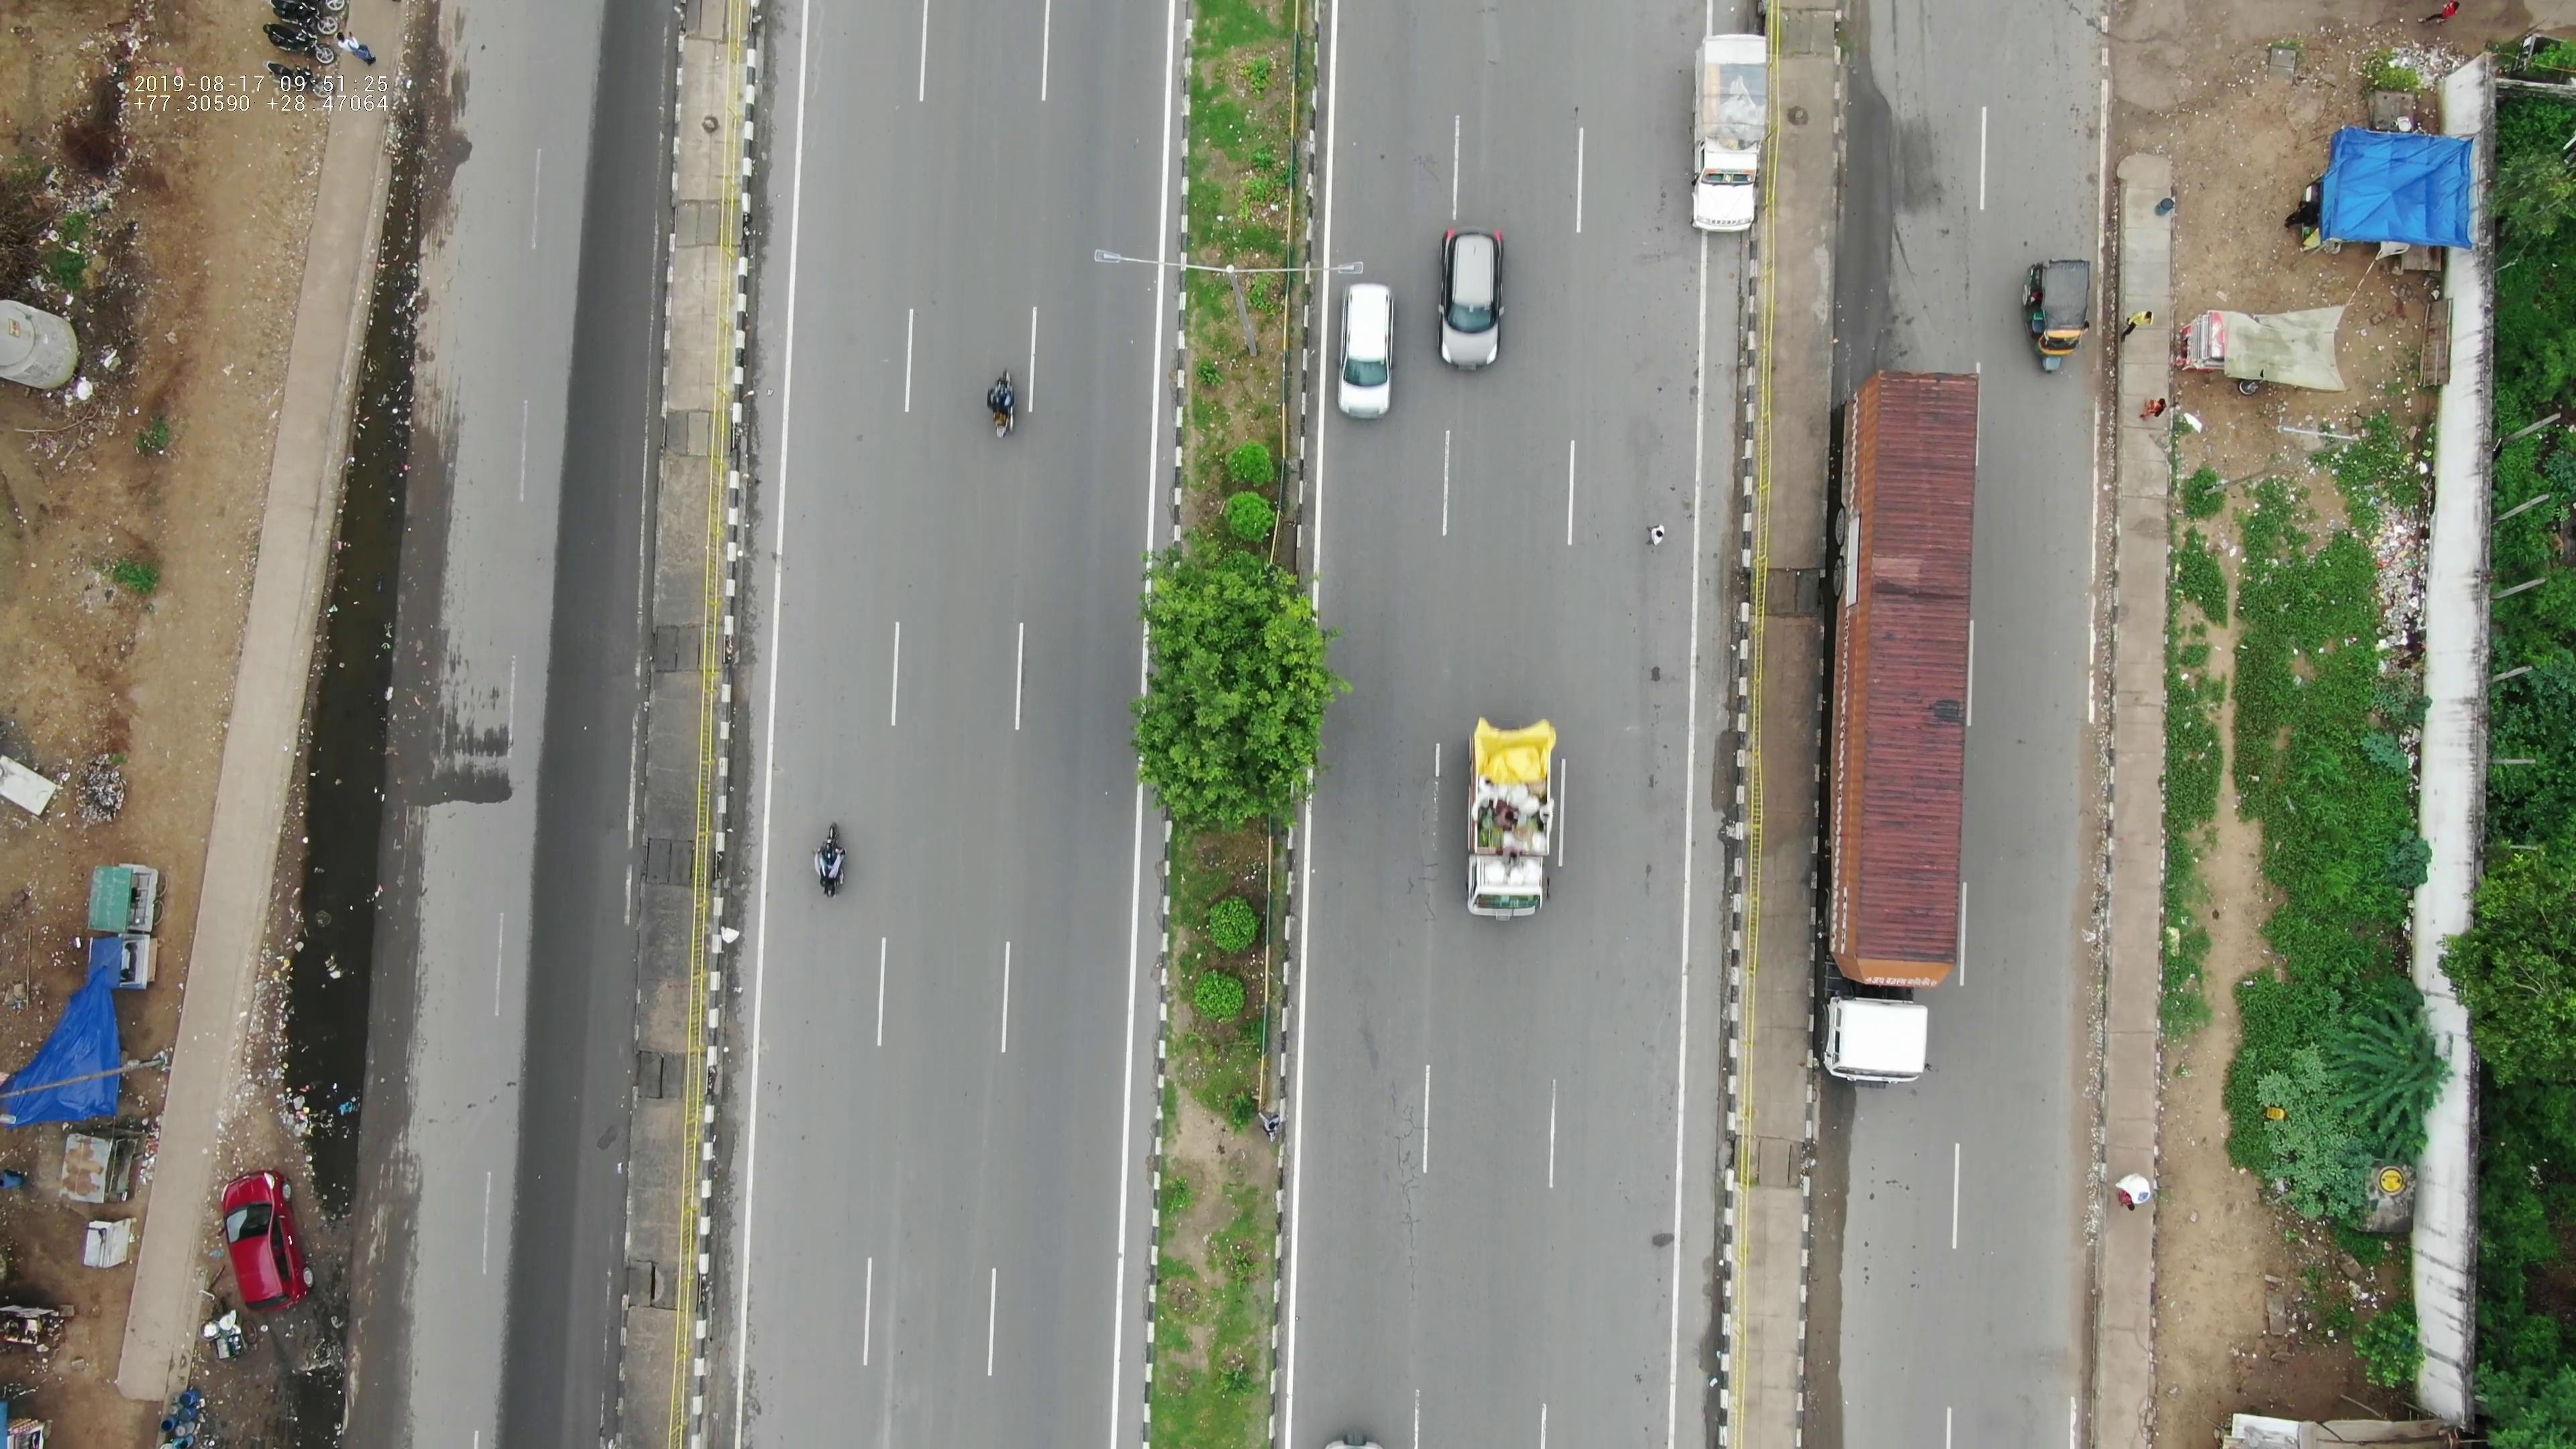Road_side_garbage: (2325, 441, 2442, 678)
Waterlogging: (285, 911, 428, 1166), (343, 58, 462, 361), (318, 364, 435, 653), (287, 653, 409, 904)
